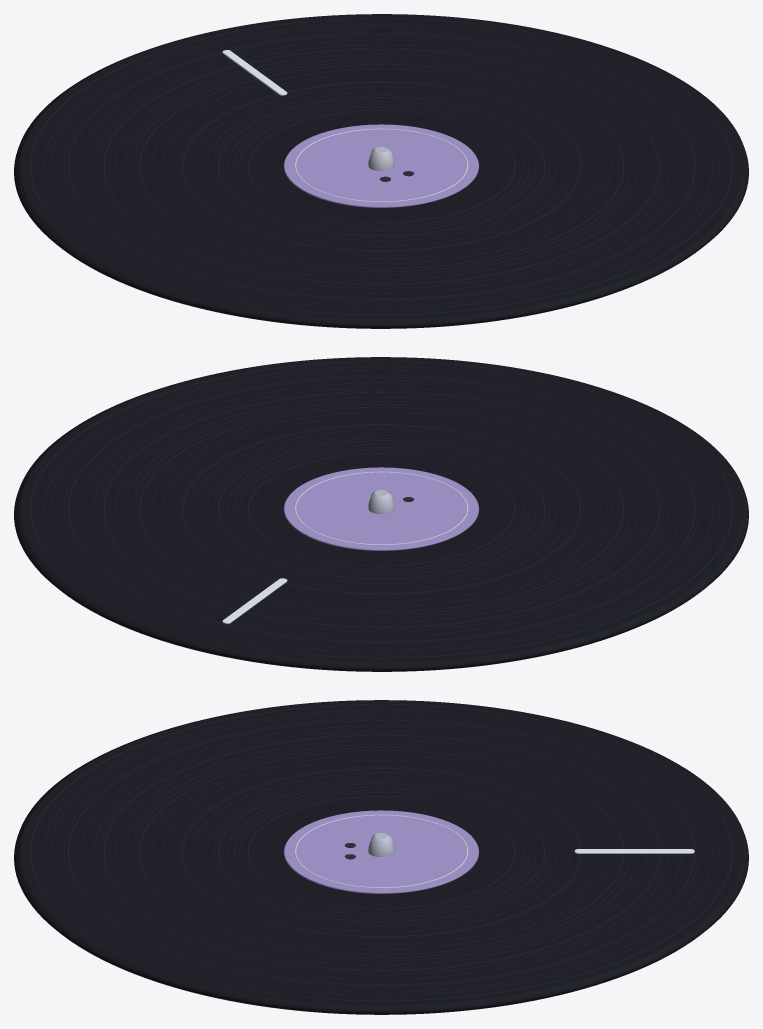
Rendered from DotRecord.fbx.
The picture shows the model from 3 angles, top to bottom: view 1: azimuth 30°, elevation 25°; view 2: azimuth 150°, elevation 25°; view 3: azimuth 270°, elevation 25°; orthographic projection.
Parts seen in each view (by area): view 1: DotRecord; view 2: DotRecord; view 3: DotRecord.
Boxes of the visible parts, x1,y1,x2,y2 form: DotRecord: (14, 14, 748, 328); DotRecord: (14, 357, 748, 671); DotRecord: (14, 700, 748, 1014).
Bounding box in the file's own units: 0.662 × 0.662 × 0.027.
